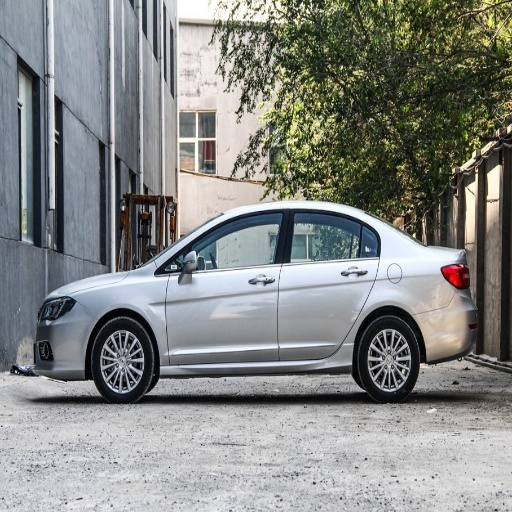back_left_door: (278, 208, 380, 360)
front_left_door: (164, 209, 286, 363)
